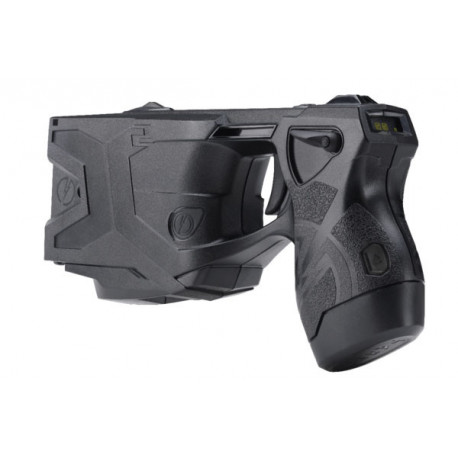Arma Falsa: (41, 91, 425, 368)
